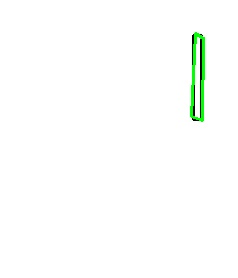line_segment: (191, 33, 204, 122)
